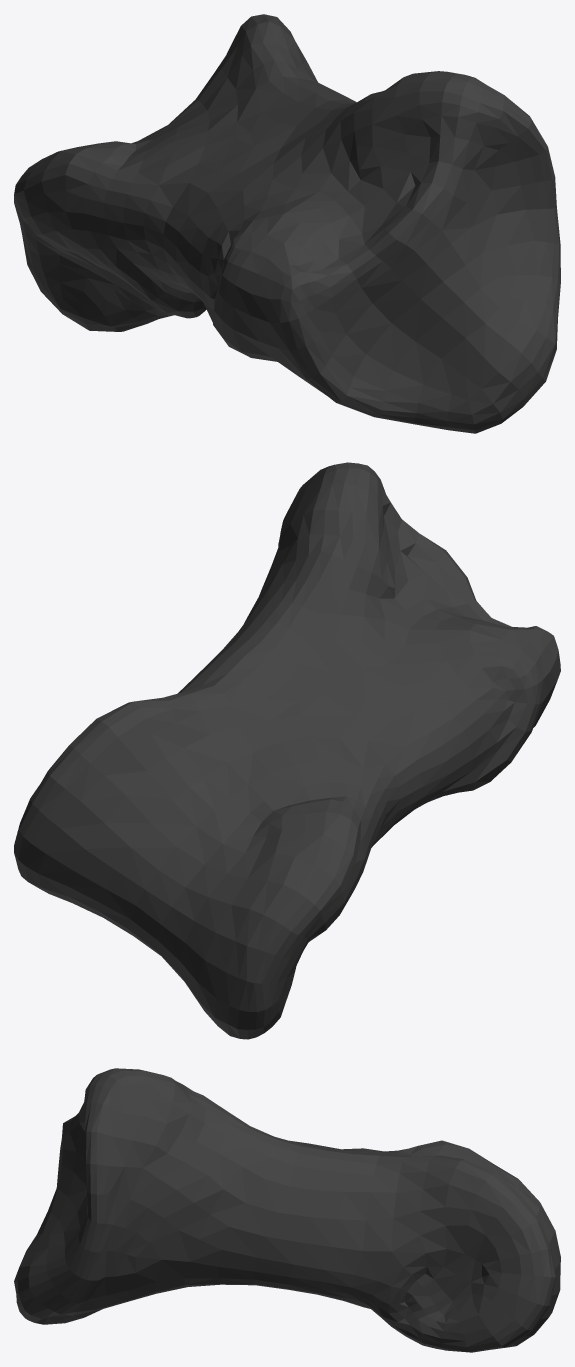
The model's file is Proximal_phalange_5.glb.
3 views of the same model, one above another, from view 1: azimuth 30°, elevation 25°; view 2: azimuth 150°, elevation 25°; view 3: azimuth 270°, elevation 25° (orthographic). The views are drawn at different scales.
Visible parts, largest first — view 1: Proximal_phalange_5; view 2: Proximal_phalange_5; view 3: Proximal_phalange_5.
Part boxes in pixels (left/top/right/bottom): Proximal_phalange_5: left=14, top=14, right=560, bottom=433; Proximal_phalange_5: left=14, top=462, right=560, bottom=1039; Proximal_phalange_5: left=14, top=1068, right=560, bottom=1352.
Bounding box in the file's own units: 0.1455 × 0.1717 × 0.2624.
Materials: 1 (1 with a texture image).
